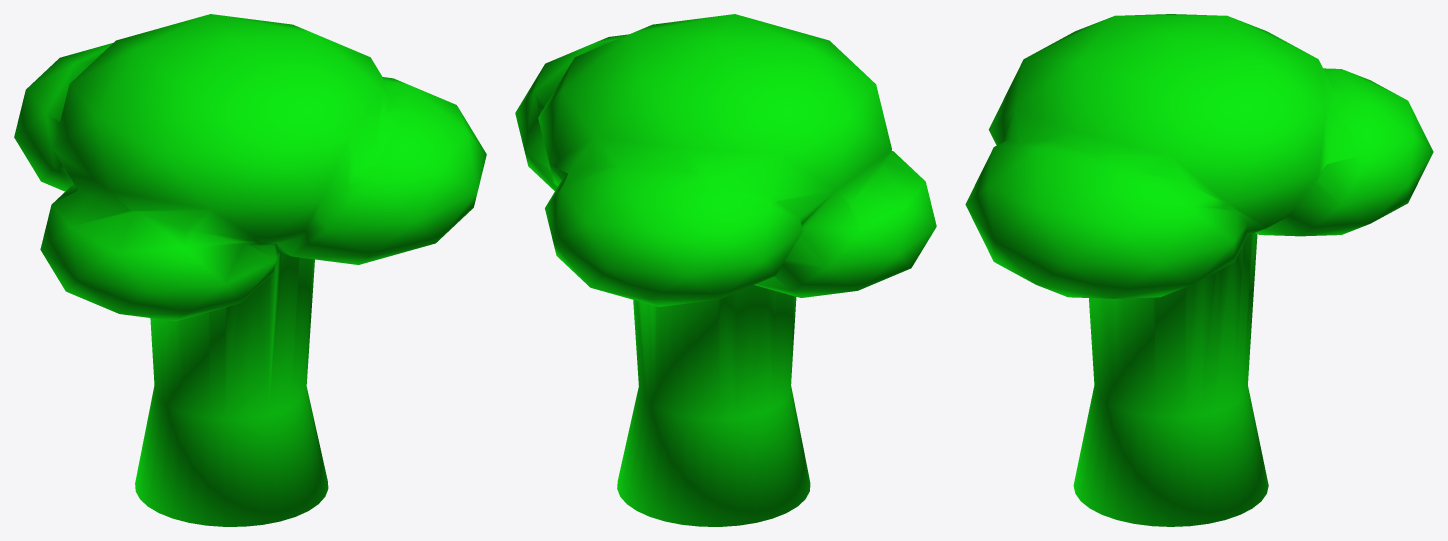
The model's file is broccoli.glb.
3 views of the same model, side by side, from view 1: azimuth 30°, elevation 25°; view 2: azimuth 150°, elevation 25°; view 3: azimuth 270°, elevation 25° (orthographic).
Parts seen in each view (by area): view 1: broccoli_large; view 2: broccoli_large; view 3: broccoli_large.
Part boxes in pixels (<box>): broccoli_large: <box>14,14,486,526</box>; broccoli_large: <box>515,14,936,526</box>; broccoli_large: <box>965,14,1433,526</box>.
Bounding box in the file's own units: 2.5 × 2.73 × 2.57.
